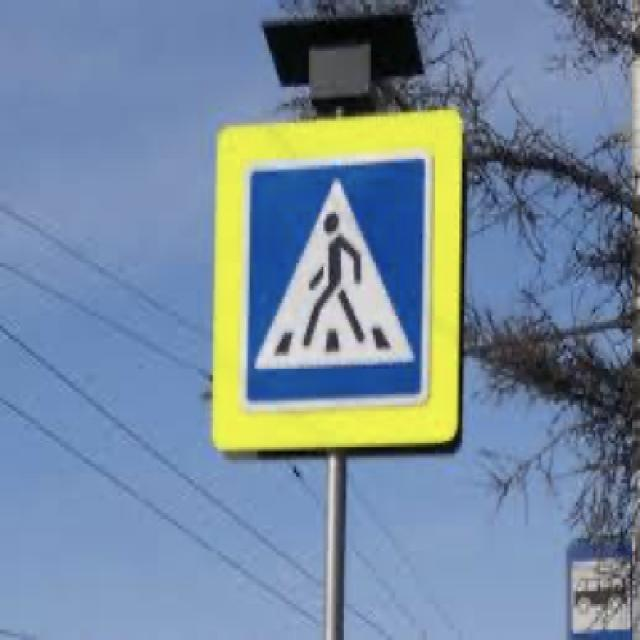crosswalk_sign: (238, 146, 434, 414)
